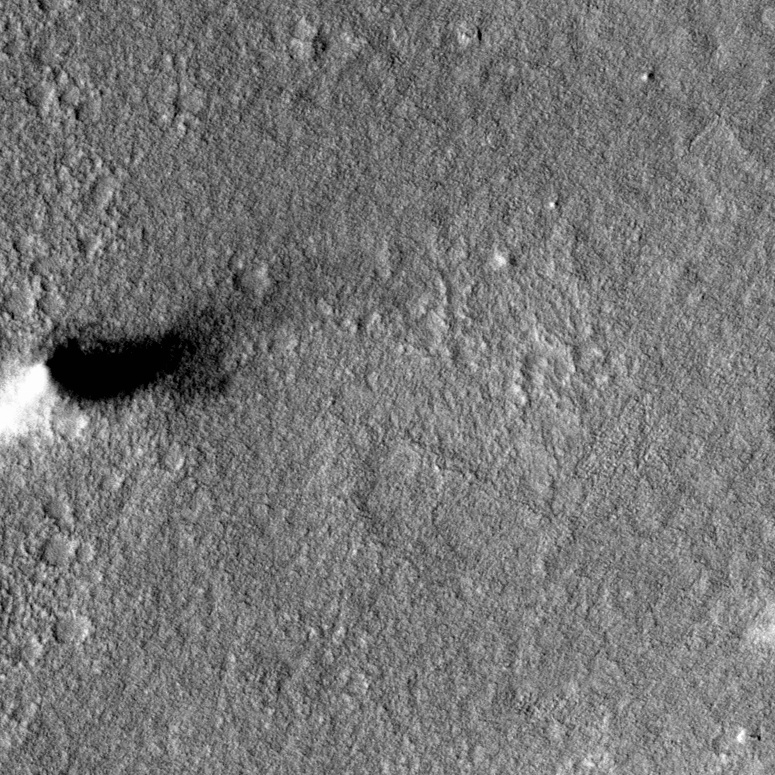dust_devil: (1, 293, 239, 448)
